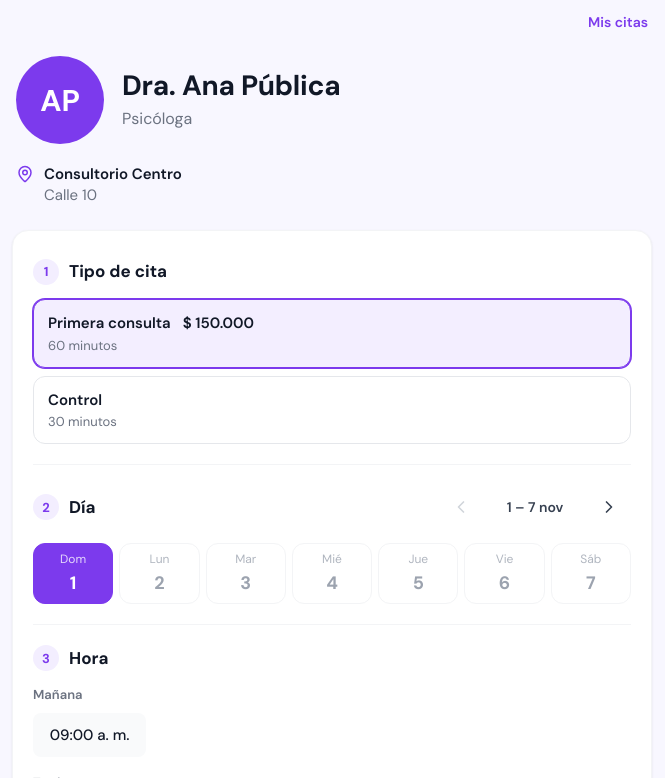
PublicBookingPage › offers the next week when this one has no slots
Expected: the list named "Mañana" is shown, [33,713,146,757]
Click the button named "Semana siguiente". click: (609, 507)
box: [587,485,631,529]
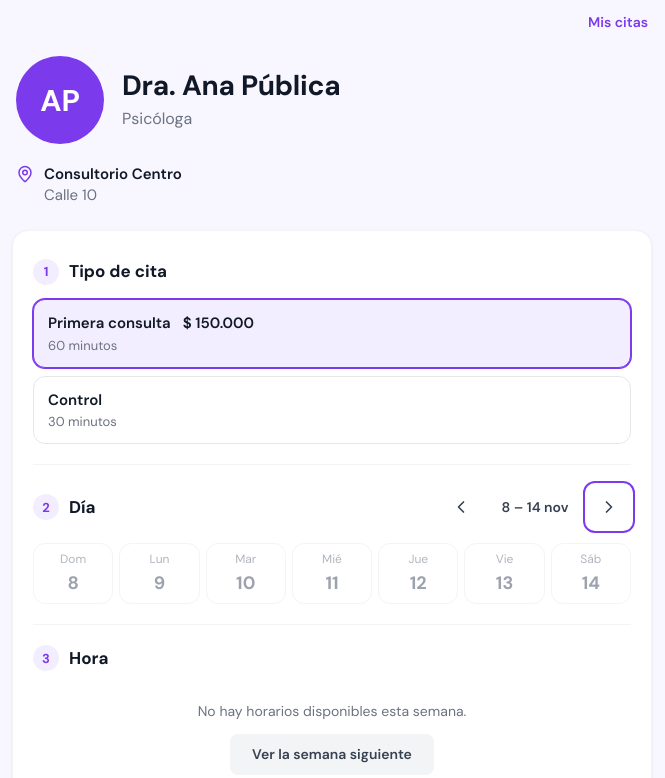
Expected: the text "No hay horarios disponibles esta semana." is shown, [198,701,466,722]
Expected: the button "Ver la semana siguiente" is shown, [230,734,434,775]
